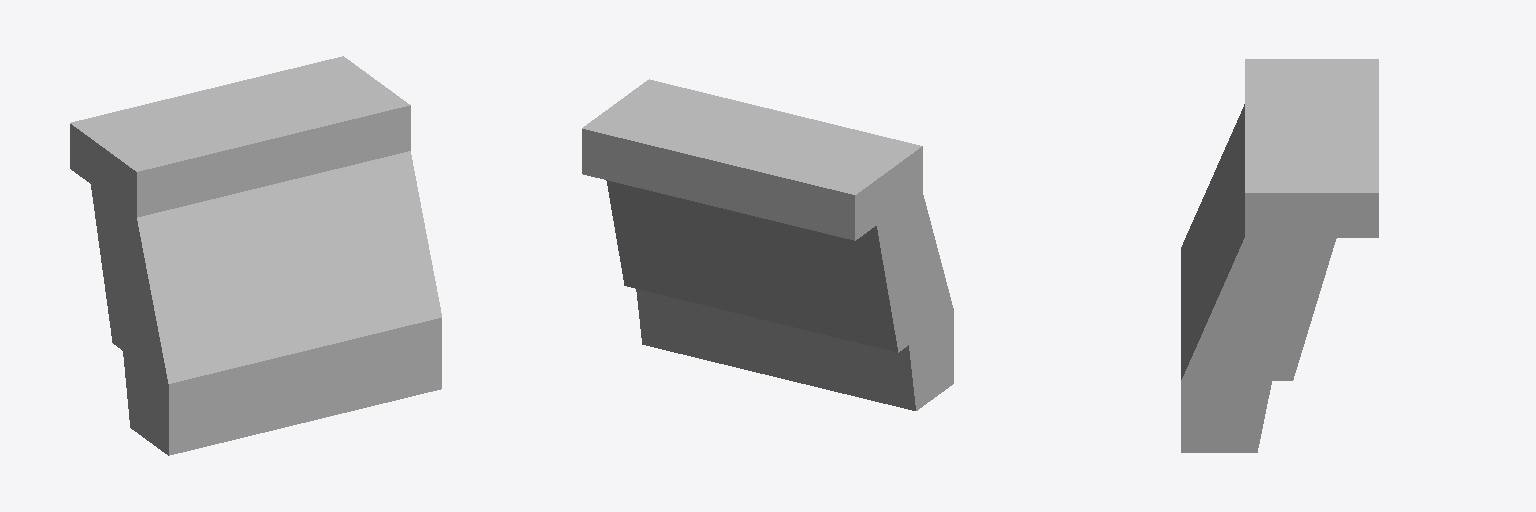
File: Model_CageFloorStraight.obj
The picture shows the model from 3 angles: view 1: azimuth 30°, elevation 25°; view 2: azimuth 150°, elevation 25°; view 3: azimuth 270°, elevation 25°; orthographic projection.
Visible parts, largest first — view 1: Model_CageFloorStraight; view 2: Model_CageFloorStraight; view 3: Model_CageFloorStraight.
Boxes of the visible parts, <box> form: Model_CageFloorStraight: <box>70,56,441,455</box>; Model_CageFloorStraight: <box>582,79,953,410</box>; Model_CageFloorStraight: <box>1181,59,1378,452</box>.
Size of the model in its own units: 2 by 1.82 by 1.25.